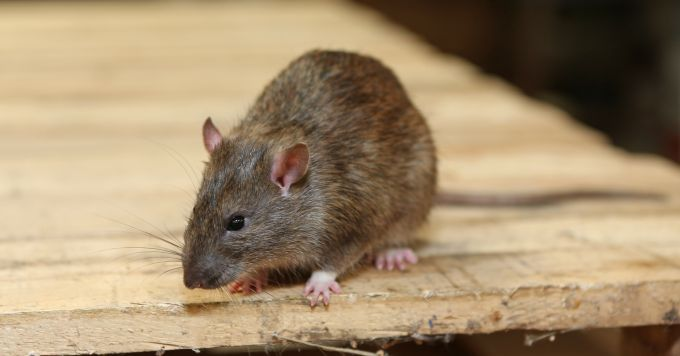rat: (164, 38, 455, 318)
